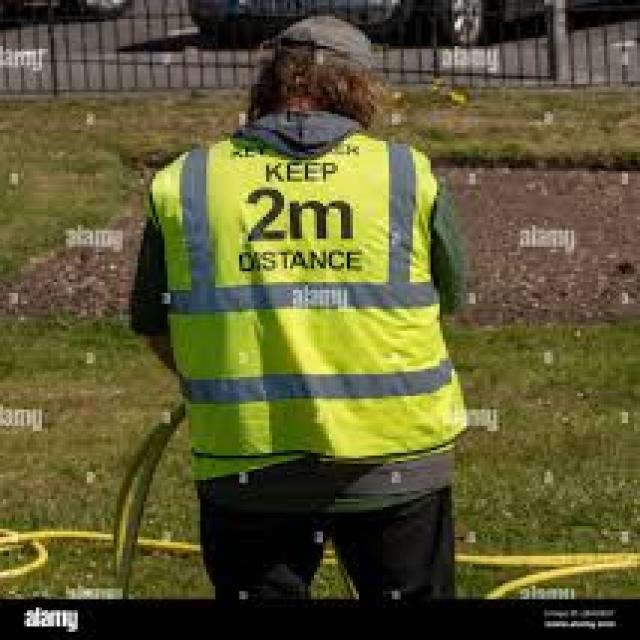Reflective-Jacket: (140, 130, 472, 483)
